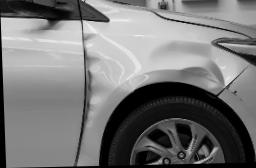Fender: (72, 21, 251, 167)
